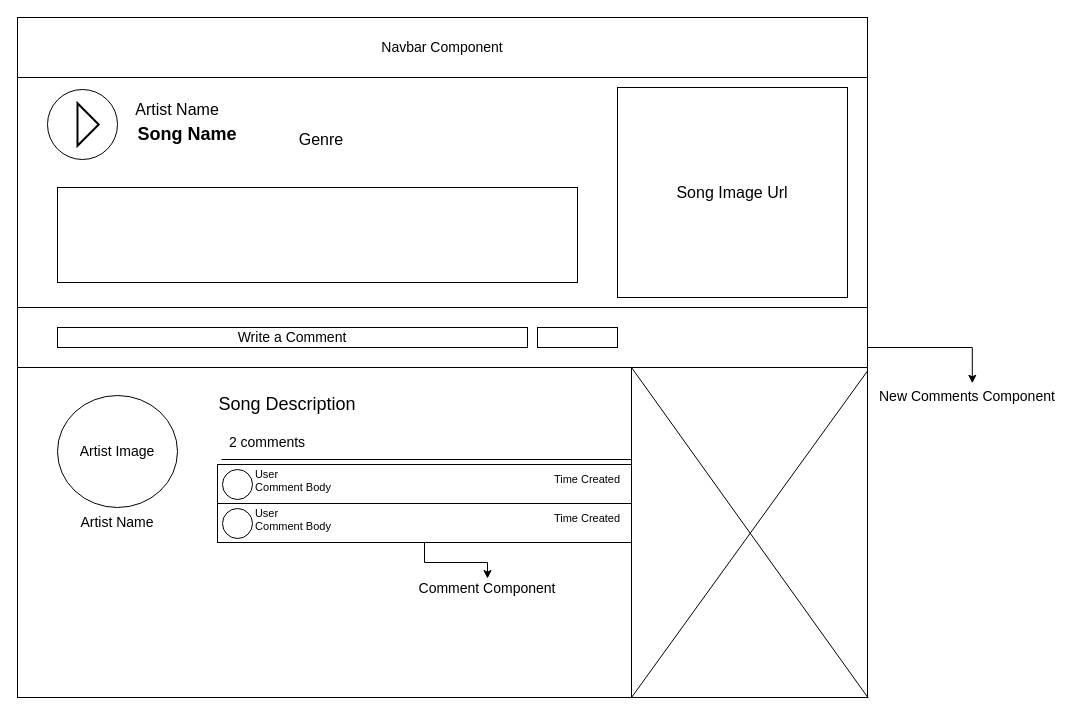
Some shapes in this 1085 by 717 pixel diagram are drawn without their labels. The centre of each missing label's shape, as x and y in pixels:
"Song Waveform Component" belongs at (x=317, y=234).
"Submit" belongs at (x=577, y=337).
